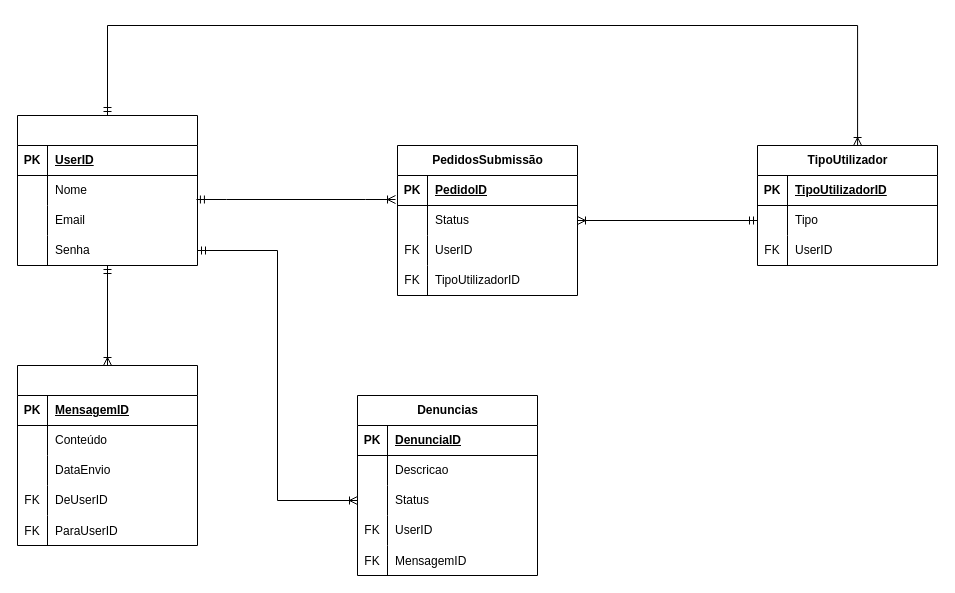
Image size: 955x593. Some labels were removed from this diagram. The shapes that lost their labels are listed below. From the top down, each one's box as (x1, y1, x2, y2) in pixels, then its label:
(16, 114, 198, 266): Utilizadores
(16, 364, 198, 546): Mensagens
